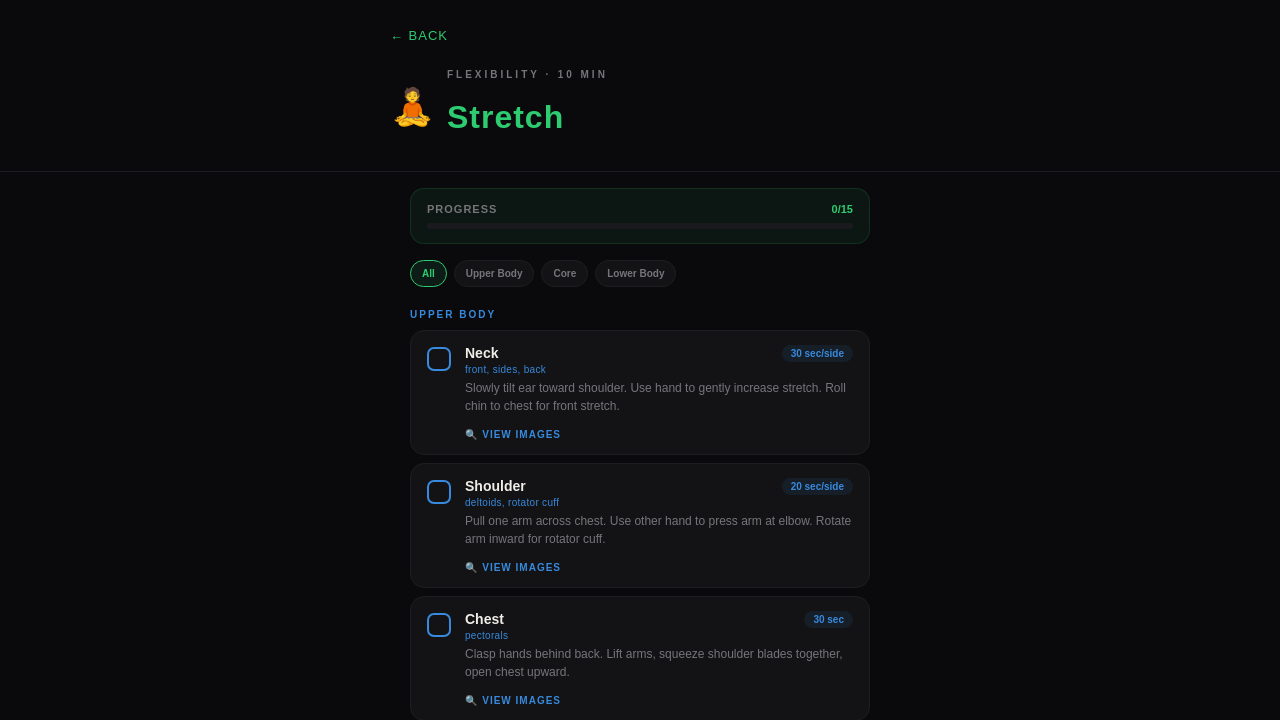
Test: StretchScreen logging › asks whether a newly checked stretch should be today's focus
What coordinates should you click on to do the following:
click the button that starts with "Neck"
I would click on:
 (640, 380)
Its box is [411,331,869,429].
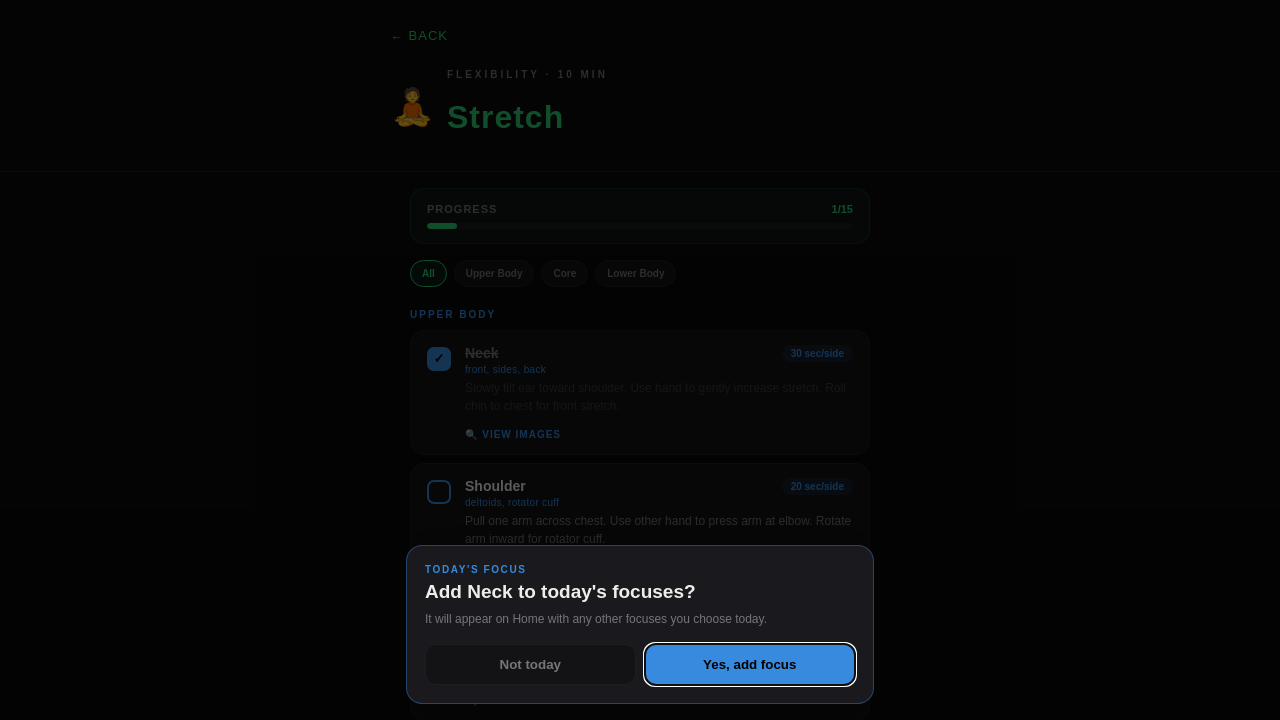
What coordinates should you click on to do the following:
click the button "Yes, add focus"
I would click on:
 (750, 664)
Its box is [644,644,855,685].
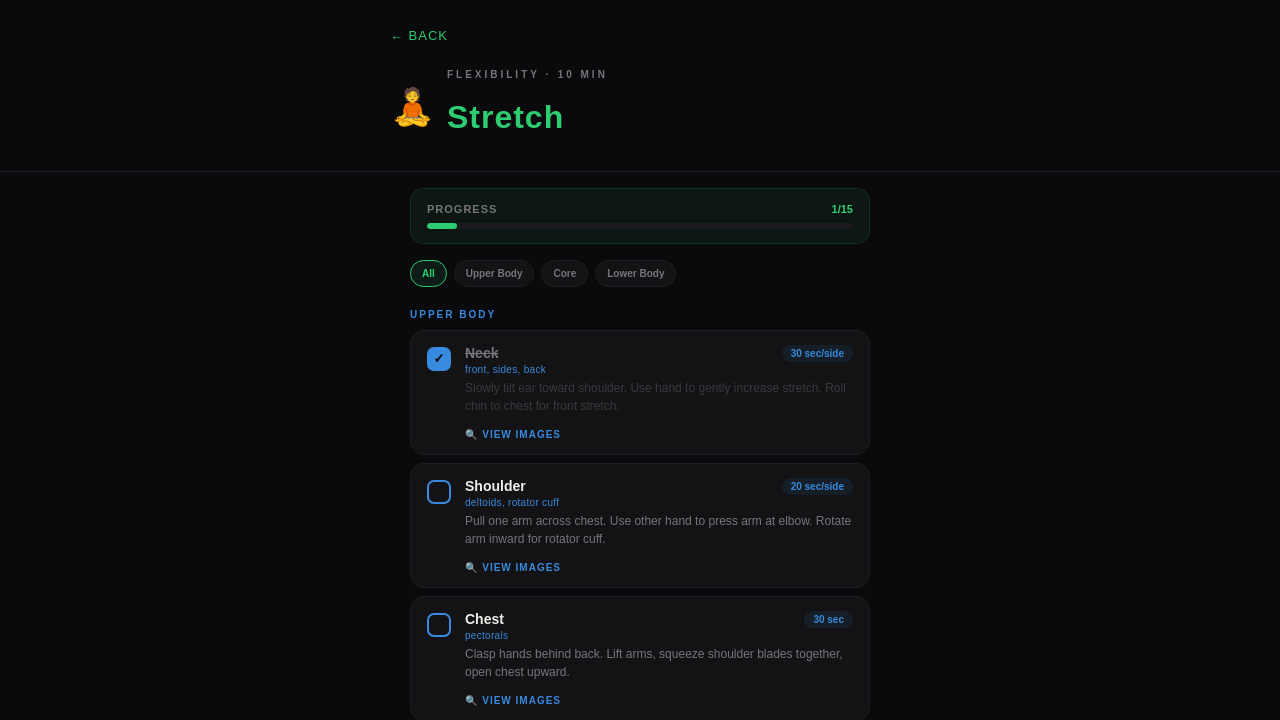
Check: the dialog is gone
